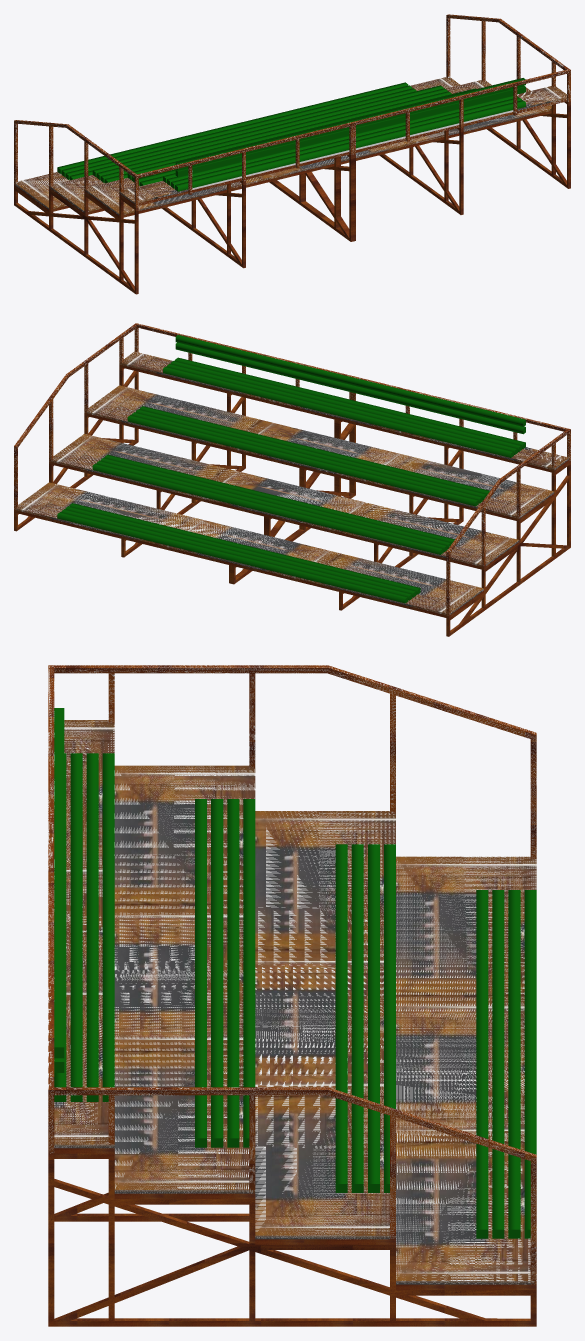
3 renders of one model, top to bottom at view 1: azimuth 30°, elevation 25°; view 2: azimuth 150°, elevation 25°; view 3: azimuth 270°, elevation 25°, orthographic. The views are drawn at different scales.
Parts seen in each view (by area): view 1: mesh29_mesh29-geometry, mesh74_mesh74-geometry, mesh57_mesh57-geometry, mesh1_mesh1-geometry, mesh54_mesh54-geometry, mesh47_mesh47-geometry, mesh49_mesh49-geometry, mesh19_mesh19-geometry, mesh21_mesh21-geometry, mesh46_mesh46-geometry, mesh18_mesh18-geometry, mesh26_mesh26-geometry (+9 smaller); view 2: mesh26_mesh26-geometry, mesh54_mesh54-geometry, mesh46_mesh46-geometry, mesh18_mesh18-geometry, mesh29_mesh29-geometry, mesh74_mesh74-geometry, mesh57_mesh57-geometry, mesh49_mesh49-geometry, mesh47_mesh47-geometry, mesh48_mesh48-geometry, mesh20_mesh20-geometry, mesh21_mesh21-geometry (+10 smaller); view 3: mesh26_mesh26-geometry, mesh54_mesh54-geometry, mesh1_mesh1-geometry, mesh74_mesh74-geometry, mesh57_mesh57-geometry, mesh19_mesh19-geometry, mesh47_mesh47-geometry, mesh21_mesh21-geometry, mesh46_mesh46-geometry, mesh49_mesh49-geometry, mesh18_mesh18-geometry, mesh20_mesh20-geometry (+4 smaller).
Boxes of the visible parts, box(x1,y1,x2,y2) form: mesh29_mesh29-geometry: box(14, 154, 353, 294); mesh74_mesh74-geometry: box(352, 14, 570, 154); mesh57_mesh57-geometry: box(14, 120, 353, 207); mesh1_mesh1-geometry: box(275, 101, 570, 241); mesh54_mesh54-geometry: box(15, 158, 334, 215); mesh47_mesh47-geometry: box(65, 130, 347, 188); mesh49_mesh49-geometry: box(61, 128, 343, 185); mesh19_mesh19-geometry: box(240, 88, 521, 142); mesh21_mesh21-geometry: box(236, 85, 517, 139); mesh46_mesh46-geometry: box(57, 125, 302, 182); mesh18_mesh18-geometry: box(232, 82, 476, 131); mesh26_mesh26-geometry: box(333, 77, 551, 161); mesh26_mesh26-geometry: box(14, 385, 336, 562); mesh54_mesh54-geometry: box(231, 438, 554, 614); mesh46_mesh46-geometry: box(231, 409, 513, 603); mesh18_mesh18-geometry: box(57, 366, 339, 560); mesh29_mesh29-geometry: box(231, 420, 570, 636); mesh74_mesh74-geometry: box(14, 323, 353, 510); mesh57_mesh57-geometry: box(337, 376, 570, 615); mesh49_mesh49-geometry: box(235, 406, 517, 600); mesh47_mesh47-geometry: box(239, 403, 521, 597); mesh48_mesh48-geometry: box(243, 400, 525, 594); mesh20_mesh20-geometry: box(69, 357, 351, 548); mesh21_mesh21-geometry: box(61, 363, 343, 554); mesh26_mesh26-geometry: box(114, 977, 536, 1284); mesh54_mesh54-geometry: box(114, 765, 536, 1068); mesh1_mesh1-geometry: box(48, 1153, 536, 1326); mesh74_mesh74-geometry: box(48, 877, 536, 1284); mesh57_mesh57-geometry: box(48, 665, 536, 932); mesh19_mesh19-geometry: box(70, 923, 504, 1238); mesh47_mesh47-geometry: box(70, 753, 504, 1059); mesh21_mesh21-geometry: box(86, 923, 520, 1238); mesh46_mesh46-geometry: box(102, 753, 536, 1059); mesh49_mesh49-geometry: box(86, 753, 520, 1059); mesh18_mesh18-geometry: box(102, 923, 536, 1238); mesh20_mesh20-geometry: box(54, 923, 488, 1238).
Size of the model in its own units: 0.8758 by 0.2277 by 0.4256.
